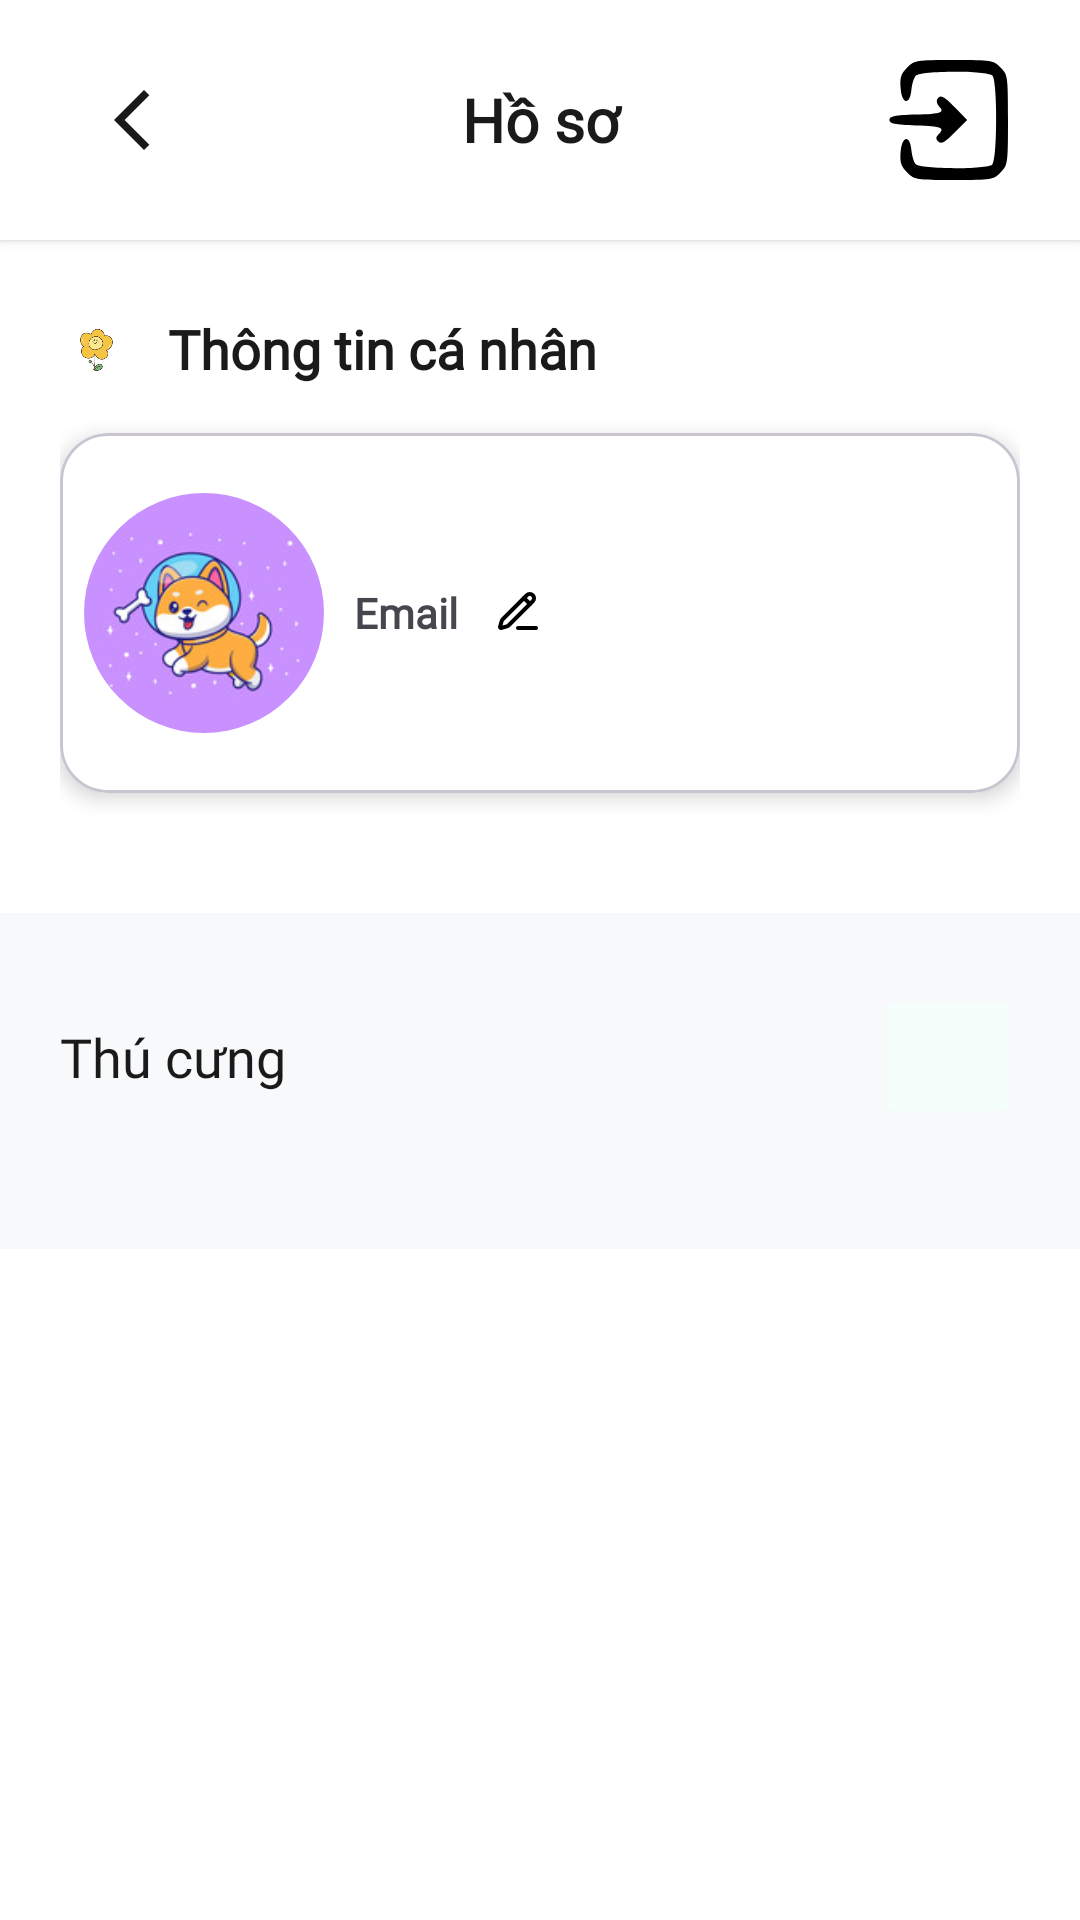

Locate icon controls on the screen. Image size 1080×1920, boxes as (x1,y1,x2,y2).
Chỉnh sửa tên người dùng: (498,592,538,630)
Quay lại: (114,90,149,150)
sunflower: (80,329,113,371)
Đăng xuất: (889,60,1008,180)
